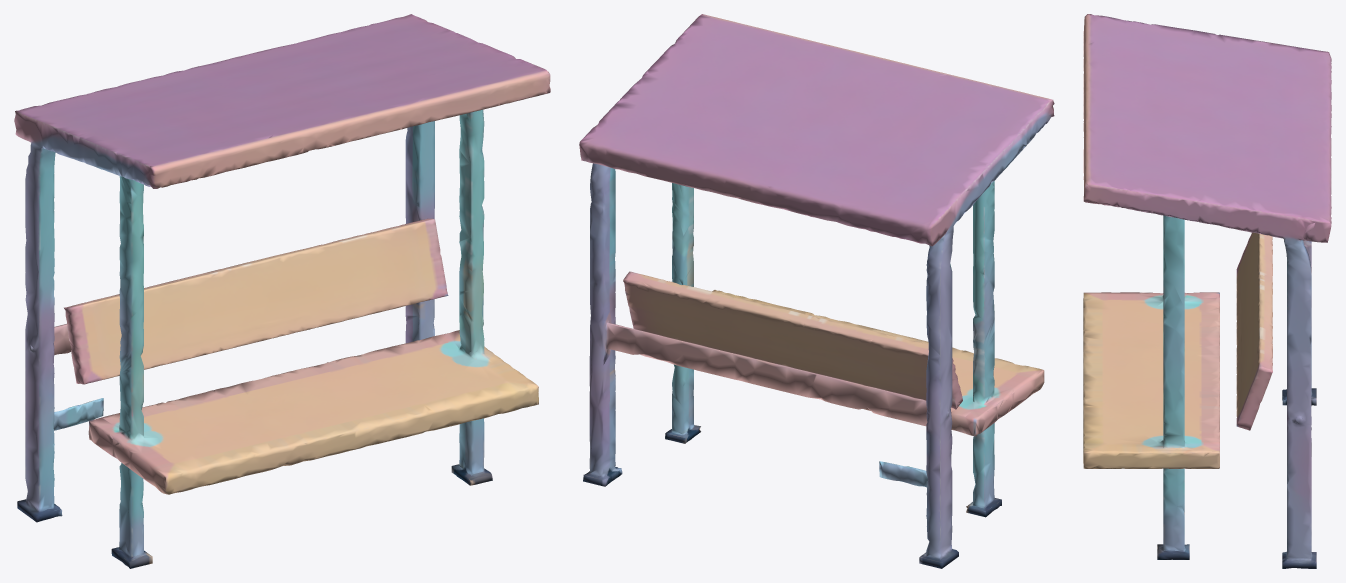
Rendered from bus_stop.glb.
3 views of the same model, side by side, from view 1: azimuth 30°, elevation 25°; view 2: azimuth 150°, elevation 25°; view 3: azimuth 270°, elevation 25° (orthographic). The views are drawn at different scales.
Visible parts, largest first — view 1: model; view 2: model; view 3: model.
Boxes of the visible parts, x1=… form: model: x1=14, y1=14, x2=550, y2=568; model: x1=579, y1=14, x2=1054, y2=568; model: x1=1083, y1=14, x2=1331, y2=568.
Bounding box in the file's own units: 1.86 × 1.9 × 1.12.
1 material, 1 textured.
